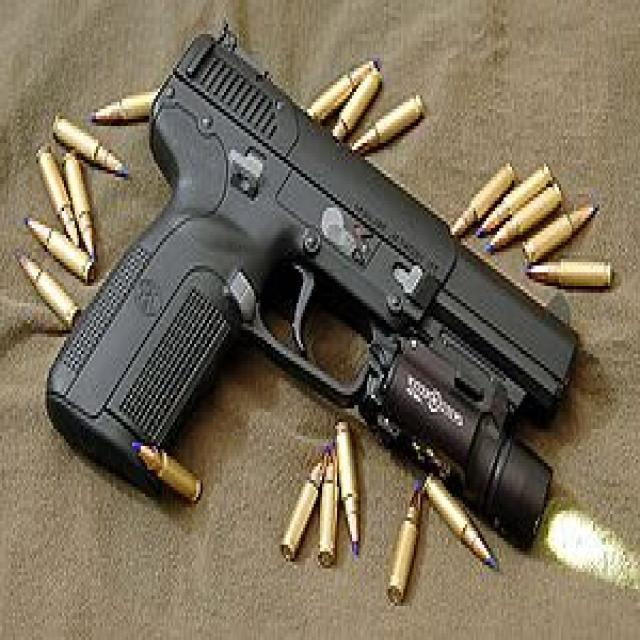pistol: (53, 14, 598, 486)
